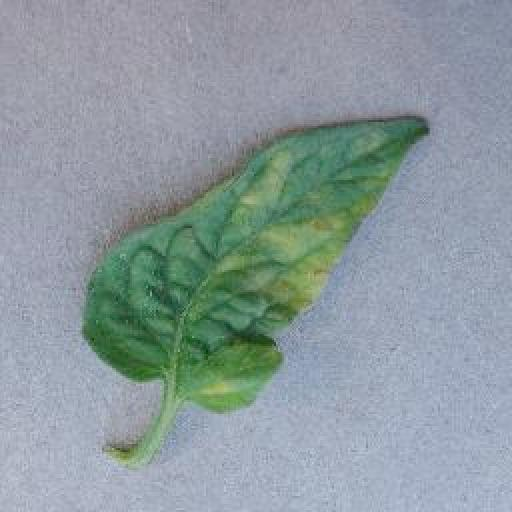disease_tomato: (83, 109, 428, 411)
